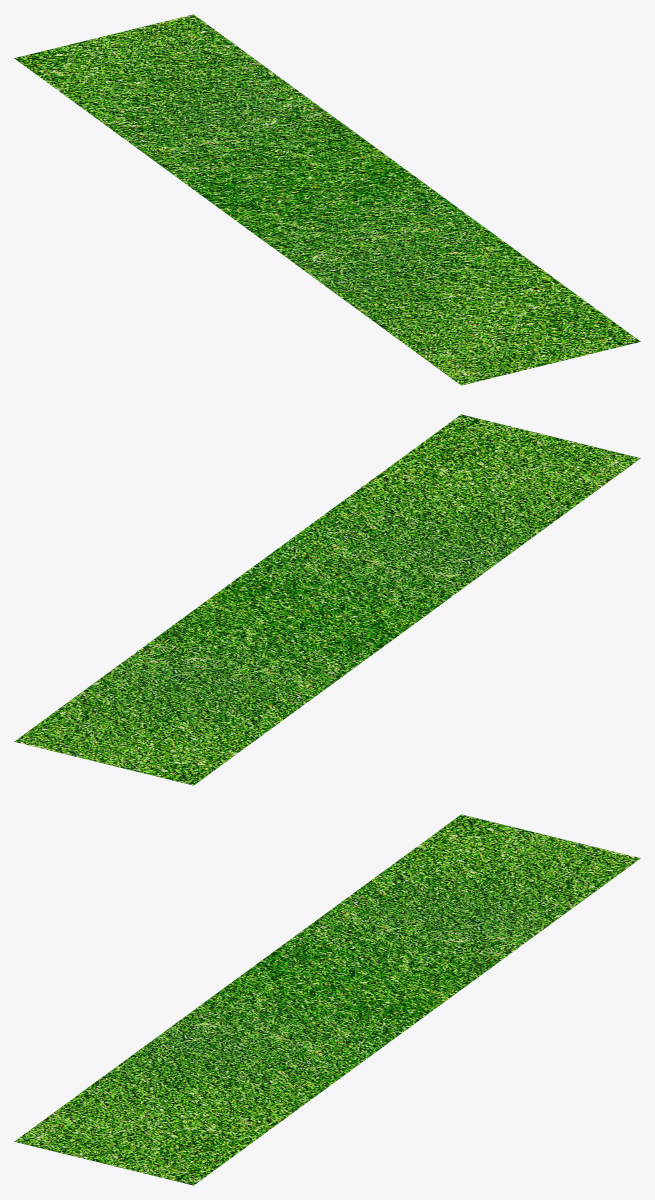
File: grass.fbx
3 renders of one model, top to bottom at view 1: azimuth 30°, elevation 25°; view 2: azimuth 150°, elevation 25°; view 3: azimuth 330°, elevation 25°, orthographic.
Parts seen in each view (by area): view 1: pPlane1; view 2: pPlane1; view 3: pPlane1.
Boxes of the visible parts, left/top/right/bottom form: pPlane1: left=14, top=14, right=640, bottom=385; pPlane1: left=14, top=414, right=640, bottom=785; pPlane1: left=14, top=814, right=640, bottom=1185.
Bounding box in the file's own units: 5.55 × 2.91e-15 × 23.93.
Materials: 1 (1 with a texture image).
